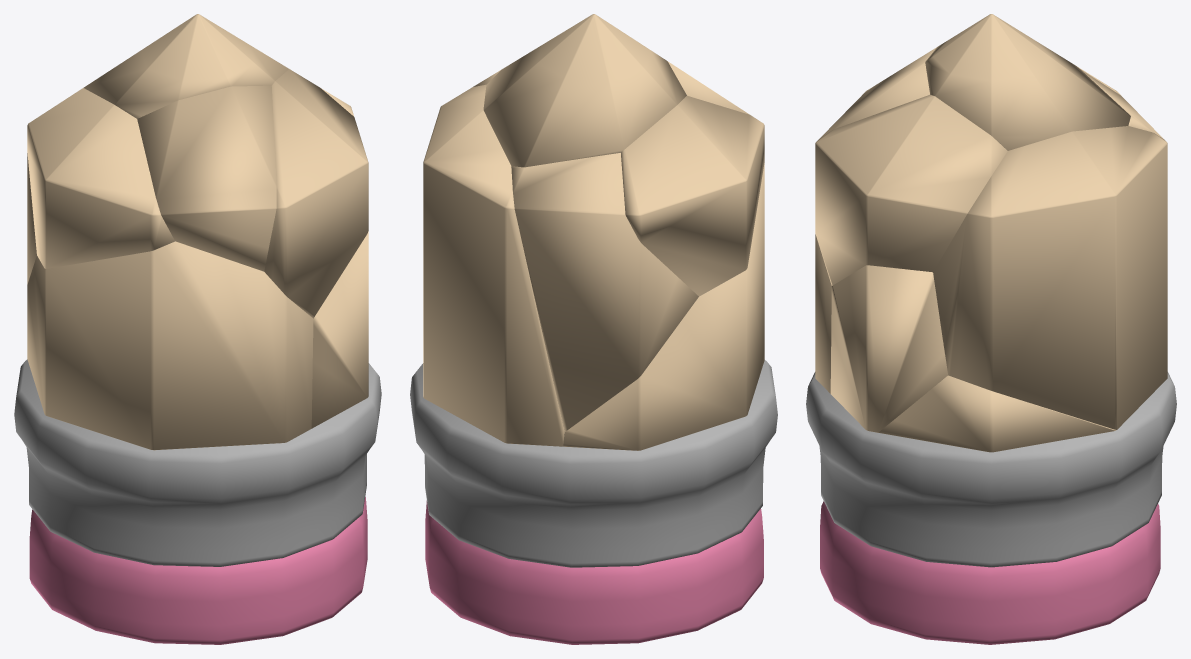
The model's file is Pencil_fractured.fbx.
3 renders of one model, left to right at view 1: azimuth 30°, elevation 25°; view 2: azimuth 150°, elevation 25°; view 3: azimuth 270°, elevation 25°, orthographic.
Visible parts, largest first — view 1: Pencil_bottom, Pencil_002_cell.006, Pencil_002_cell, Pencil_002_cell.003, Pencil_002_cell.004, Pencil_002_cell.012, Pencil_002_cell.001, Pencil_002_cell.002; view 2: Pencil_bottom, Pencil_002_cell.005, Pencil_002_cell.002, Pencil_002_cell.003, Pencil_002_cell.012, Pencil_002_cell.006, Pencil_002_cell; view 3: Pencil_bottom, Pencil_002_cell.005, Pencil_002_cell.004, Pencil_002_cell.012, Pencil_002_cell.001, Pencil_002_cell.008, Pencil_002_cell, Pencil_002_cell.006, Pencil_002_cell.002.
Boxes of the visible parts, box(x1,y1,x2,y2) form: Pencil_bottom: box(14, 359, 381, 644); Pencil_002_cell.006: box(27, 241, 313, 450); Pencil_002_cell: box(137, 85, 276, 271); Pencil_002_cell.003: box(27, 88, 174, 268); Pencil_002_cell.004: box(264, 69, 368, 318); Pencil_002_cell.012: box(83, 14, 288, 118); Pencil_002_cell.001: box(311, 231, 368, 428); Pencil_002_cell.002: box(27, 153, 36, 284); Pencil_bottom: box(410, 360, 777, 644); Pencil_002_cell.005: box(423, 84, 564, 446); Pencil_002_cell.002: box(511, 152, 698, 431); Pencil_002_cell.003: box(621, 95, 764, 296); Pencil_002_cell.012: box(483, 14, 686, 167); Pencil_002_cell.006: box(563, 163, 764, 450); Pencil_002_cell: box(667, 61, 749, 114); Pencil_bottom: box(806, 372, 1176, 644); Pencil_002_cell.005: box(933, 126, 1167, 429); Pencil_002_cell.004: box(815, 94, 1007, 285); Pencil_002_cell.012: box(925, 14, 1130, 150); Pencil_002_cell.001: box(830, 265, 948, 432); Pencil_002_cell.008: box(878, 375, 1116, 452); Pencil_002_cell: box(819, 47, 936, 138); Pencil_002_cell.006: box(815, 234, 831, 393); Pencil_002_cell.002: box(1081, 69, 1163, 138).
Size of the model in its own units: 194 by 325 by 194.
